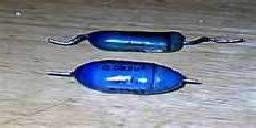Electrolytic-Capacitor: (41, 58, 216, 100), (42, 21, 249, 53)
